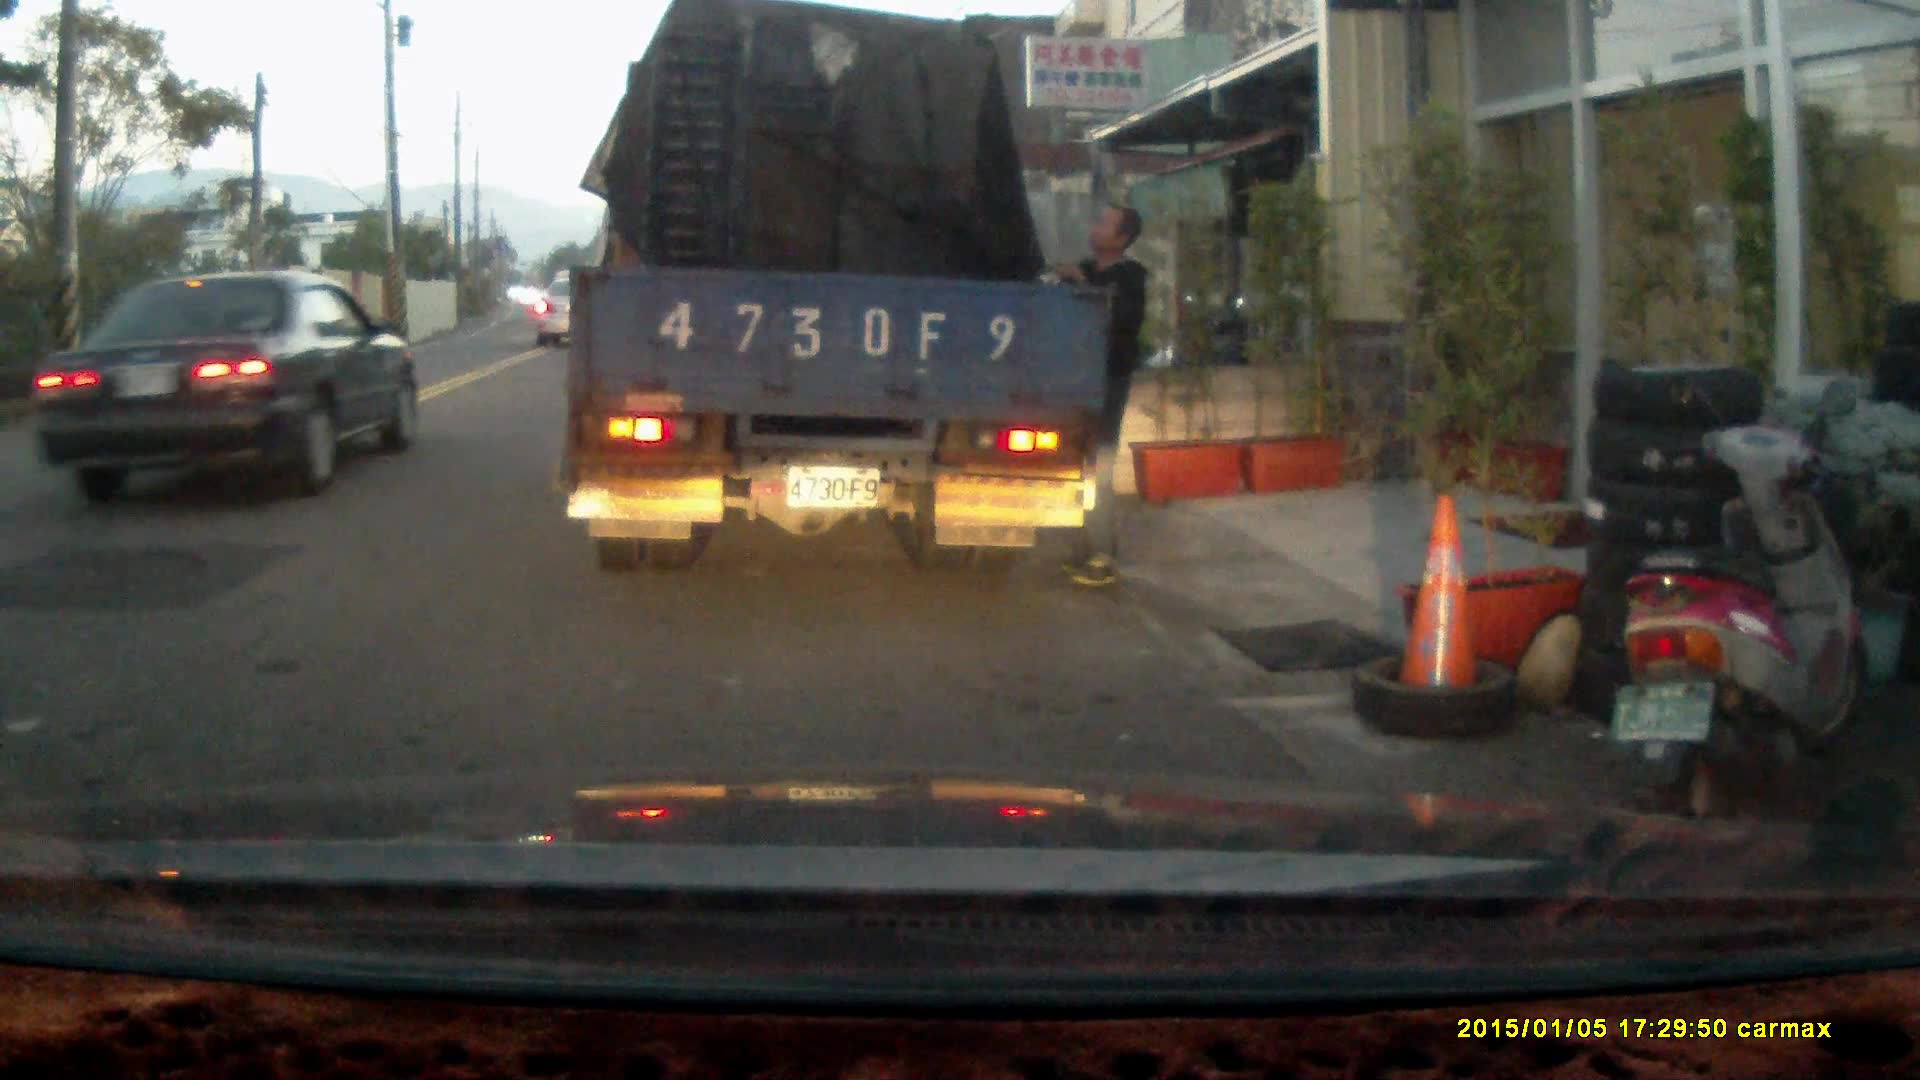pedestrian: (1035, 200, 1149, 588)
vehicle: (566, 23, 1099, 572), (13, 270, 409, 507), (533, 275, 609, 353)
